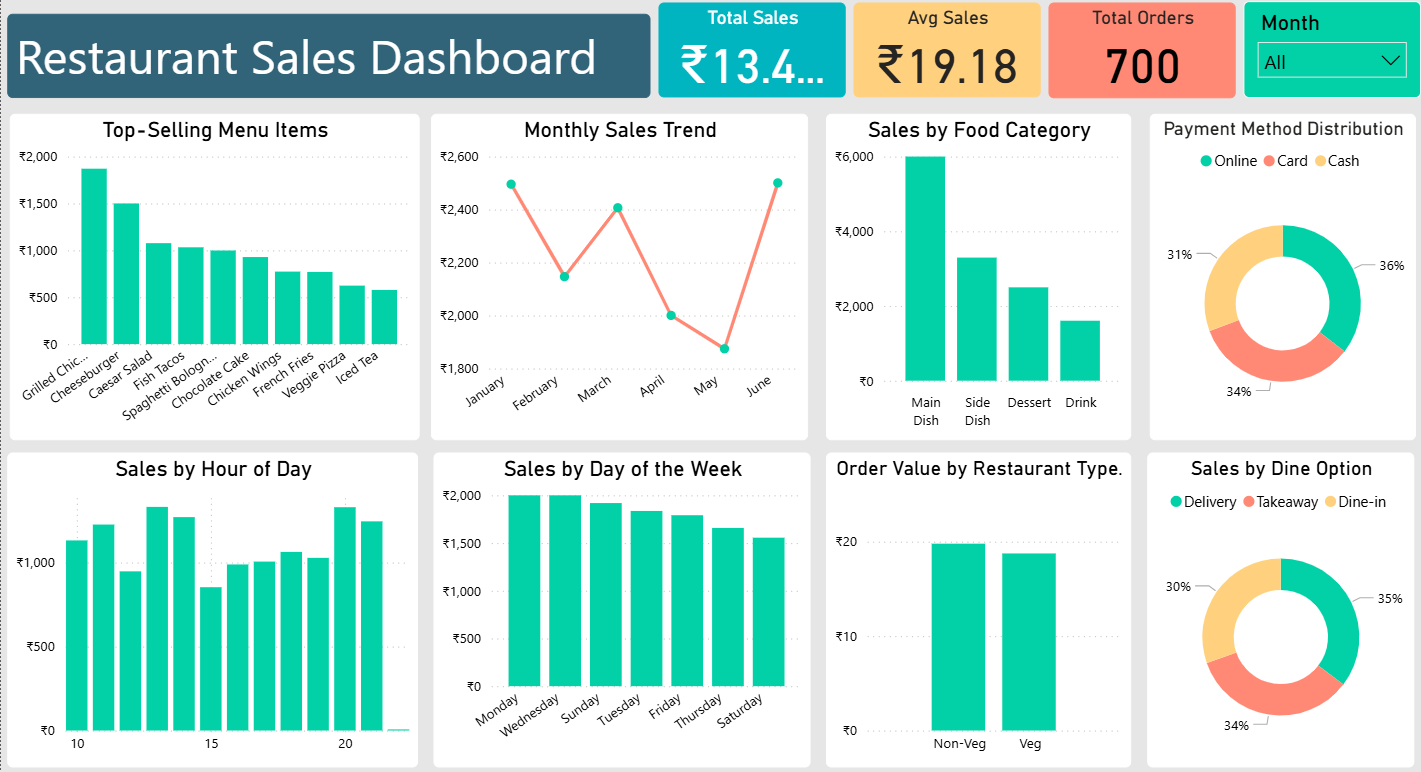

What the dashboard file says about the page in this screenshot:
{"tool":"powerbi","page":{"name":"Page 1","canvas":[1280,720],"ordinal":0},"visuals":[{"type":"card","title":"Total Sales","fields":{"Values":["Table.Total Sales"]},"box":[592.7,11.4,168.8,85.6],"z":0},{"type":"card","title":"Avg Sales","fields":{"Values":["Table.Avg Order"]},"box":[768.4,11.4,168.8,85.6],"z":1000},{"type":"card","title":"Total Orders","fields":{"Values":["Table.Total Orders"]},"box":[944.1,11,169,86],"z":2000},{"type":"columnChart","title":"Top-Selling Menu Items","fields":{"Category":["Restaurant Sales.Item Name"],"Y":["Table.Total Sales"]},"box":[7.3,111.3,369.3,294.7],"z":3000},{"type":"lineChart","title":"Monthly Sales Trend","fields":{"Y":["Table.Total Sales"],"Category":["Restaurant Sales.Date.Variation.Date Hierarchy.Month"]},"box":[387.5,111.3,339.9,294.7],"z":4000},{"type":"columnChart","title":"Sales by Food Category","fields":{"Category":["Restaurant Sales.Category"],"Y":["Table.Total Sales"]},"box":[743.9,111.3,275.1,294.7],"z":5000},{"type":"donutChart","title":"Payment Method Distribution","fields":{"Category":["Restaurant Sales.Payment Method"],"Y":["Table.Total Sales"]},"box":[1035.5,111.3,239.7,294.7],"z":6000},{"type":"columnChart","title":"Sales by Hour of Day","fields":{"Category":["Restaurant Sales.Hour"],"Y":["Table.Total Sales"]},"box":[6.1,416.5,370.5,283.7],"z":7000},{"type":"columnChart","title":"Sales by Day of the Week","fields":{"Y":["Table.Total Sales"],"Category":["Restaurant Sales.Day"]},"box":[390.5,416.5,339.9,283.7],"z":8000},{"type":"clusteredColumnChart","title":"Order Value by Restaurant Type.","fields":{"Category":["Restaurant Sales.Restaurant Type"],"Y":["Restaurant Sales.Average Order Value"]},"box":[744.3,416.5,275.1,283.7],"z":9000},{"type":"donutChart","title":"Sales by Dine Option","fields":{"Category":["Restaurant Sales.Dine Type"],"Y":["Table.Total Sales"]},"box":[1033.3,416.5,240.9,283.7],"z":10000},{"type":"textbox","box":[5.6,11.3,580.5,85.7],"z":11000},{"type":"slicer","fields":{"Values":["Restaurant Sales.Date.Variation.Date Hierarchy.Month"]},"box":[1119.8,10.2,160.2,86.8],"z":12000}]}

Visuals, with their boxes on the page's 1280x720 design canvas (x1, y1, x2, y2). These are canvas units, not pixel positions in the 1421x772 screenshot, which may show the page scaled, cropped or inside an application window:
"Total Sales" card: region(593, 11, 762, 97)
"Avg Sales" card: region(768, 11, 937, 97)
"Total Orders" card: region(944, 11, 1113, 97)
"Top-Selling Menu Items" columnChart: region(7, 111, 377, 406)
"Monthly Sales Trend" lineChart: region(388, 111, 727, 406)
"Sales by Food Category" columnChart: region(744, 111, 1019, 406)
"Payment Method Distribution" donutChart: region(1036, 111, 1275, 406)
"Sales by Hour of Day" columnChart: region(6, 416, 377, 700)
"Sales by Day of the Week" columnChart: region(390, 416, 730, 700)
"Order Value by Restaurant Type." clusteredColumnChart: region(744, 416, 1019, 700)
"Sales by Dine Option" donutChart: region(1033, 416, 1274, 700)
textbox: region(6, 11, 586, 97)
slicer - Restaurant Sales.Date.Variation.Date Hierarchy.Month: region(1120, 10, 1280, 97)
